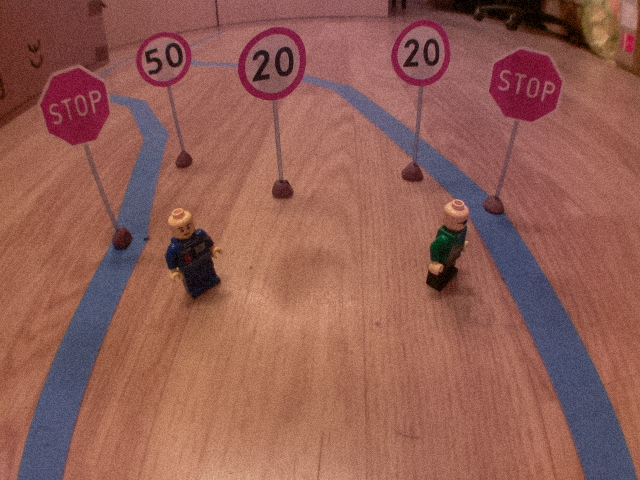LEGO_person: (161, 206, 227, 300), (424, 197, 474, 299)
ogr_20: (236, 25, 309, 103), (389, 17, 453, 88)
ogr_50: (133, 30, 193, 88)
stop: (485, 44, 567, 126), (37, 63, 113, 147)
